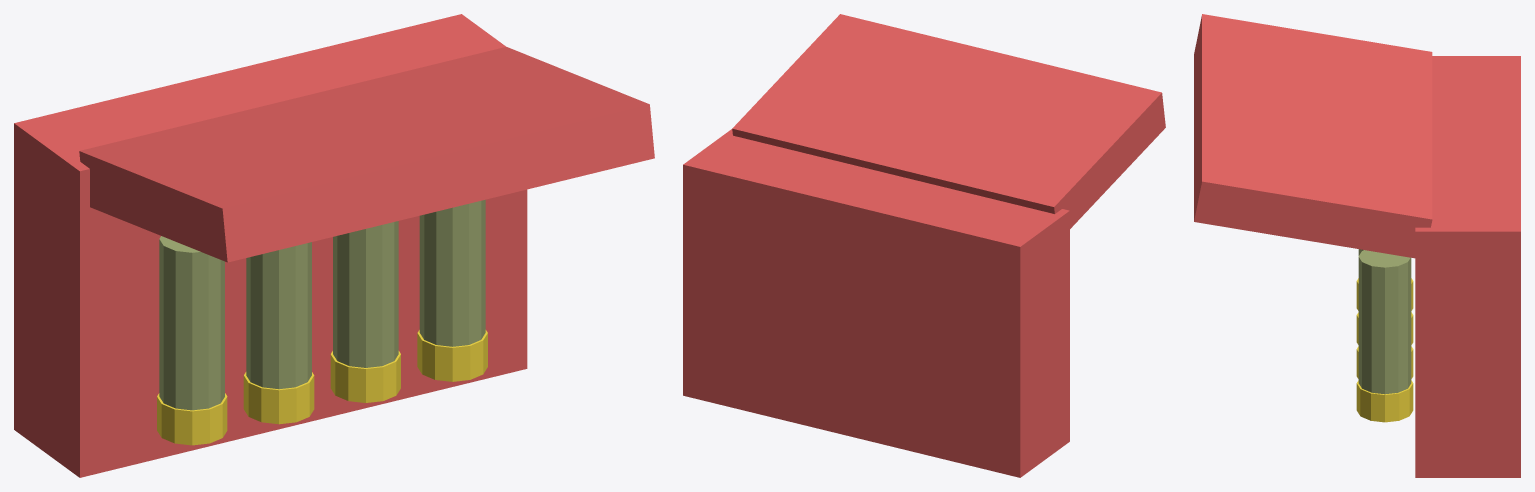
The model's file is 25_ammo_case_red_open.glb.
3 views of the same model, side by side, from view 1: azimuth 30°, elevation 25°; view 2: azimuth 150°, elevation 25°; view 3: azimuth 270°, elevation 25° (orthographic). The views are drawn at different scales.
Visible parts, largest first — view 1: part_1, part_2, part_4, part_10, part_8, part_6, part_7, part_5, part_11, part_9; view 2: part_1, part_2; view 3: part_2, part_1, part_10, part_11.
Boxes of the visible parts, bbox=[...] form: part_1: bbox=[14, 14, 527, 477]; part_2: bbox=[79, 47, 654, 262]; part_4: bbox=[159, 236, 224, 410]; part_10: bbox=[419, 199, 485, 346]; part_8: bbox=[333, 221, 398, 367]; part_6: bbox=[246, 242, 311, 389]; part_7: bbox=[243, 372, 314, 424]; part_5: bbox=[157, 393, 227, 445]; part_11: bbox=[417, 330, 487, 381]; part_9: bbox=[330, 351, 400, 402]; part_1: bbox=[683, 129, 1069, 477]; part_2: bbox=[732, 14, 1165, 228]; part_2: bbox=[1194, 14, 1432, 258]; part_1: bbox=[1415, 56, 1520, 477]; part_10: bbox=[1358, 250, 1411, 394]; part_11: bbox=[1356, 380, 1413, 422].
Size of the model in its own units: 1.1 by 0.8545 by 0.8657.
